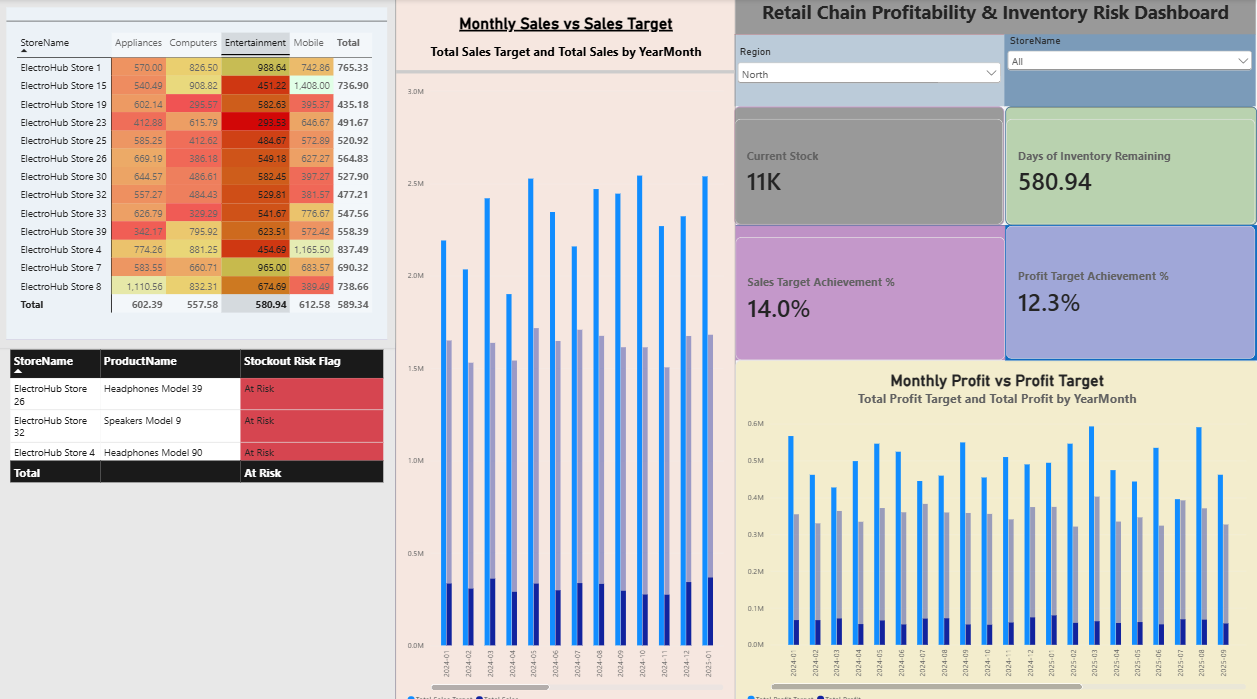

The page's visual inventory and layout, read from the dashboard file:
{"tool":"powerbi","page":{"name":"Page 3","canvas":[1920,1080],"ordinal":0},"visuals":[{"type":"cardVisual","fields":{"Data":["inventory.Current Stock"]},"box":[1051.8,153.6,385.7,169.6],"z":0},{"type":"cardVisual","fields":{"Data":["inventory.Days of Inventory Remaining"]},"box":[1439.3,153.6,358.9,169.6],"z":1},{"type":"tableEx","fields":{"Values":["stores.StoreName","products.ProductName","inventory.Stockout Risk Flag"]},"box":[0,485.7,567.9,544.6],"z":2},{"type":"pivotTable","fields":{"Columns":["products.Category"],"Rows":["stores.StoreName"],"Values":["inventory.Days of Inventory Remaining"]},"box":[0,0,567.9,498.2],"z":3},{"type":"slicer","fields":{"Values":["stores.Region"]},"box":[1051.8,50,385.7,103.6],"z":4},{"type":"clusteredColumnChart","title":"Monthly Sales vs Sales Target","fields":{"Category":["Calendar.YearMonth"],"Y":["Calendar.Total Sales Target","sales.Total Sales"]},"box":[567.9,0,485.7,1030.4],"z":5},{"type":"cardVisual","fields":{"Data":["Calendar.Sales Target Achievement %"]},"box":[1053.6,323.2,385.7,192.9],"z":6},{"type":"slicer","fields":{"Values":["stores.StoreName"]},"box":[1437.5,50,358.9,103.6],"z":8},{"type":"textbox","box":[1053.6,0,742.9,50],"z":9},{"type":"clusteredColumnChart","title":"Monthly Profit vs Profit Target","fields":{"Category":["Calendar.YearMonth"],"Y":["Calendar.Total Profit Target","sales.Total Profit"]},"box":[1051.8,516.1,746.4,514.3],"z":10},{"type":"cardVisual","fields":{"Data":["Calendar.Profit Target Achievement %"]},"box":[1439.3,323.2,358.9,192.9],"z":11}]}

Visuals, with their boxes in screenshot pixels (x1, y1, x2, y2), scaled from the page's 1920x1080 canvas onto the 1257x699 screenshot:
cardVisual - inventory.Current Stock: (689,99,941,209)
cardVisual - inventory.Days of Inventory Remaining: (942,99,1177,209)
tableEx - stores.StoreName x products.ProductName: (0,314,372,667)
pivotTable - products.Category x stores.StoreName: (0,0,372,322)
slicer - stores.Region: (689,32,941,99)
"Monthly Sales vs Sales Target" clusteredColumnChart: (372,0,690,667)
cardVisual - Calendar.Sales Target Achievement %: (690,209,942,334)
slicer - stores.StoreName: (941,32,1176,99)
textbox: (690,0,1176,32)
"Monthly Profit vs Profit Target" clusteredColumnChart: (689,334,1177,667)
cardVisual - Calendar.Profit Target Achievement %: (942,209,1177,334)
